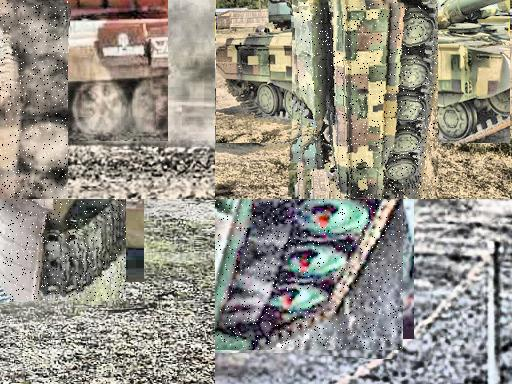tanks: (298, 4, 438, 200), (216, 200, 395, 350), (1, 2, 68, 200), (1, 200, 127, 302), (216, 1, 235, 24)
